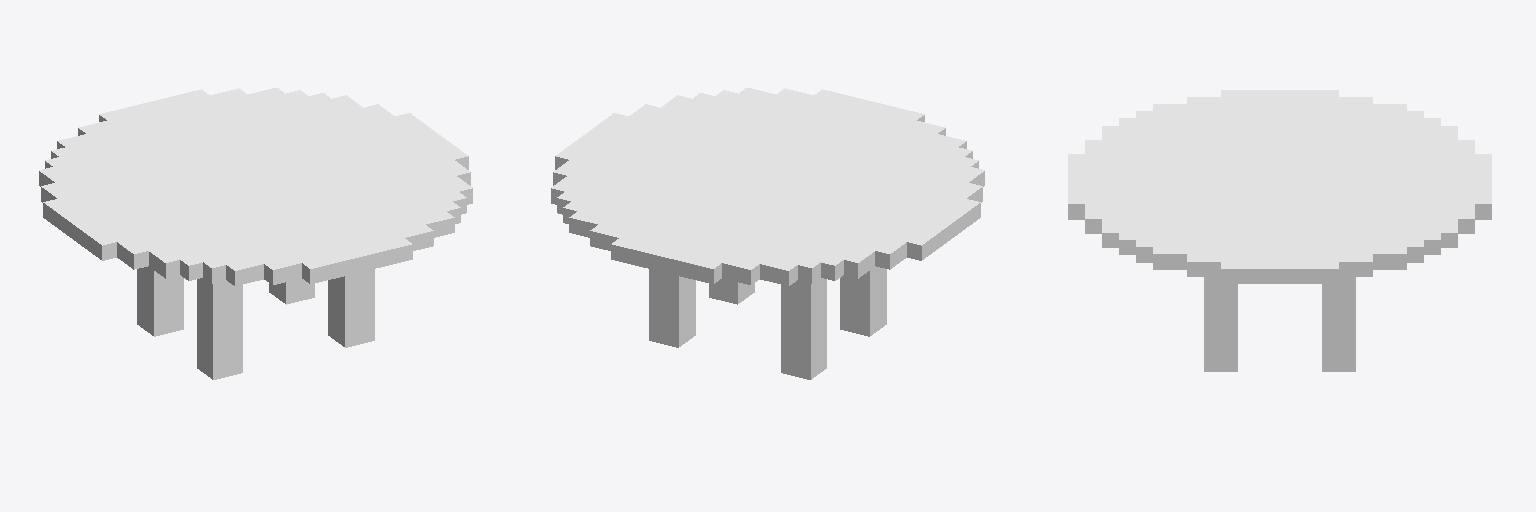
File: ostół.obj
3 renders of one model, left to right at view 1: azimuth 30°, elevation 25°; view 2: azimuth 150°, elevation 25°; view 3: azimuth 270°, elevation 25°, orthographic.
Parts seen in each view (by area): view 1: object 1; view 2: object 1; view 3: object 1.
Boxes of the visible parts, <box> form: object 1: <box>39,88,472,379</box>; object 1: <box>551,88,984,379</box>; object 1: <box>1068,90,1491,371</box>.
Bounding box in the file's own units: 2.5 × 1 × 2.5.